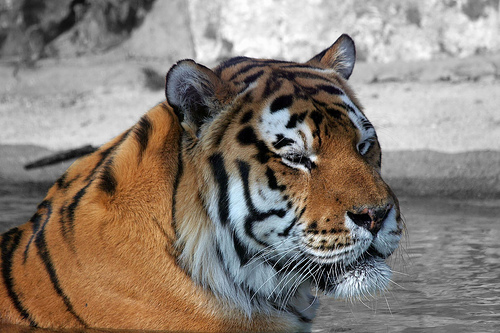Tigre: (55, 64, 416, 333)
